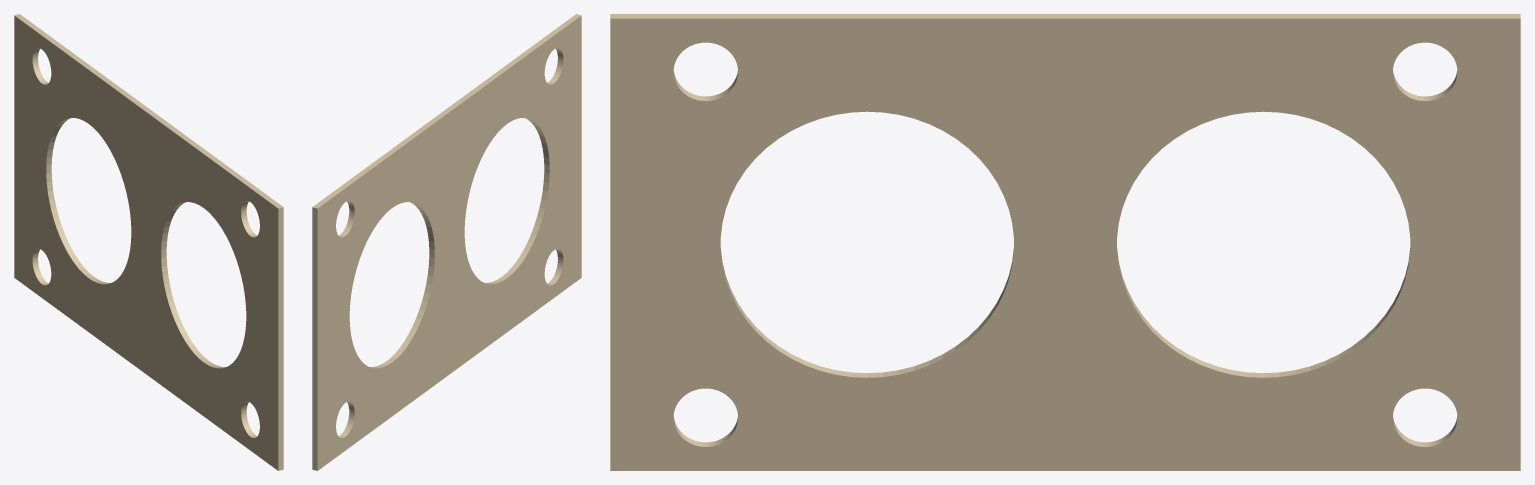
Rendered from throttle-gasket.glb.
3 renders of one model, left to right at view 1: azimuth 30°, elevation 25°; view 2: azimuth 150°, elevation 25°; view 3: azimuth 270°, elevation 25°, orthographic. The views are drawn at different scales.
Parts seen in each view (by area): view 1: world; view 2: world; view 3: world.
Part boxes in pixels (<box>): world: <box>14,14,283,470</box>; world: <box>312,14,581,470</box>; world: <box>610,14,1520,470</box>.
Size of the model in its own units: 0.0015 by 0.068 by 0.124.
